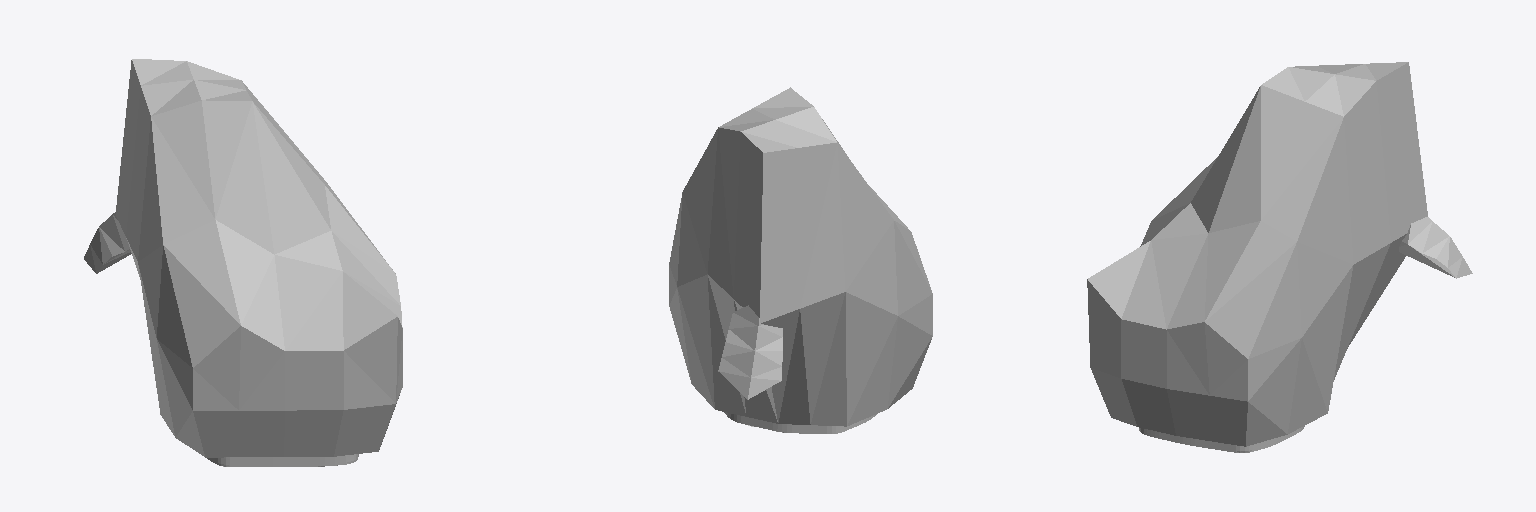
Rendered from Lte.obj.
3 renders of one model, left to right at view 1: azimuth 30°, elevation 25°; view 2: azimuth 150°, elevation 25°; view 3: azimuth 270°, elevation 25°, orthographic.
Visible parts, largest first — view 1: 立方体.005; view 2: 立方体.005; view 3: 立方体.005.
Boxes of the visible parts, <box> form: 立方体.005: <box>84,59,402,466</box>; 立方体.005: <box>669,87,932,433</box>; 立方体.005: <box>1087,62,1472,452</box>.
Size of the model in its own units: 0.5965 by 0.8184 by 0.868.